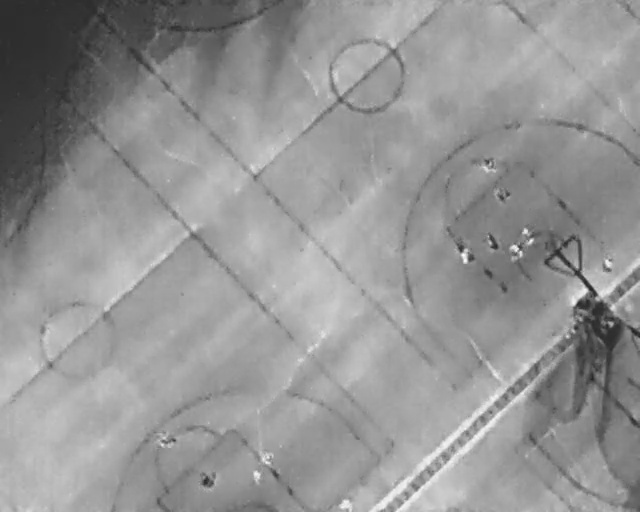Person: (502, 240, 529, 267), (481, 227, 502, 255), (195, 470, 218, 493), (456, 241, 476, 266), (518, 224, 538, 249), (155, 433, 178, 450), (494, 185, 512, 204), (600, 255, 614, 275), (483, 157, 497, 174), (337, 497, 354, 511), (261, 449, 275, 464), (251, 469, 264, 485)
